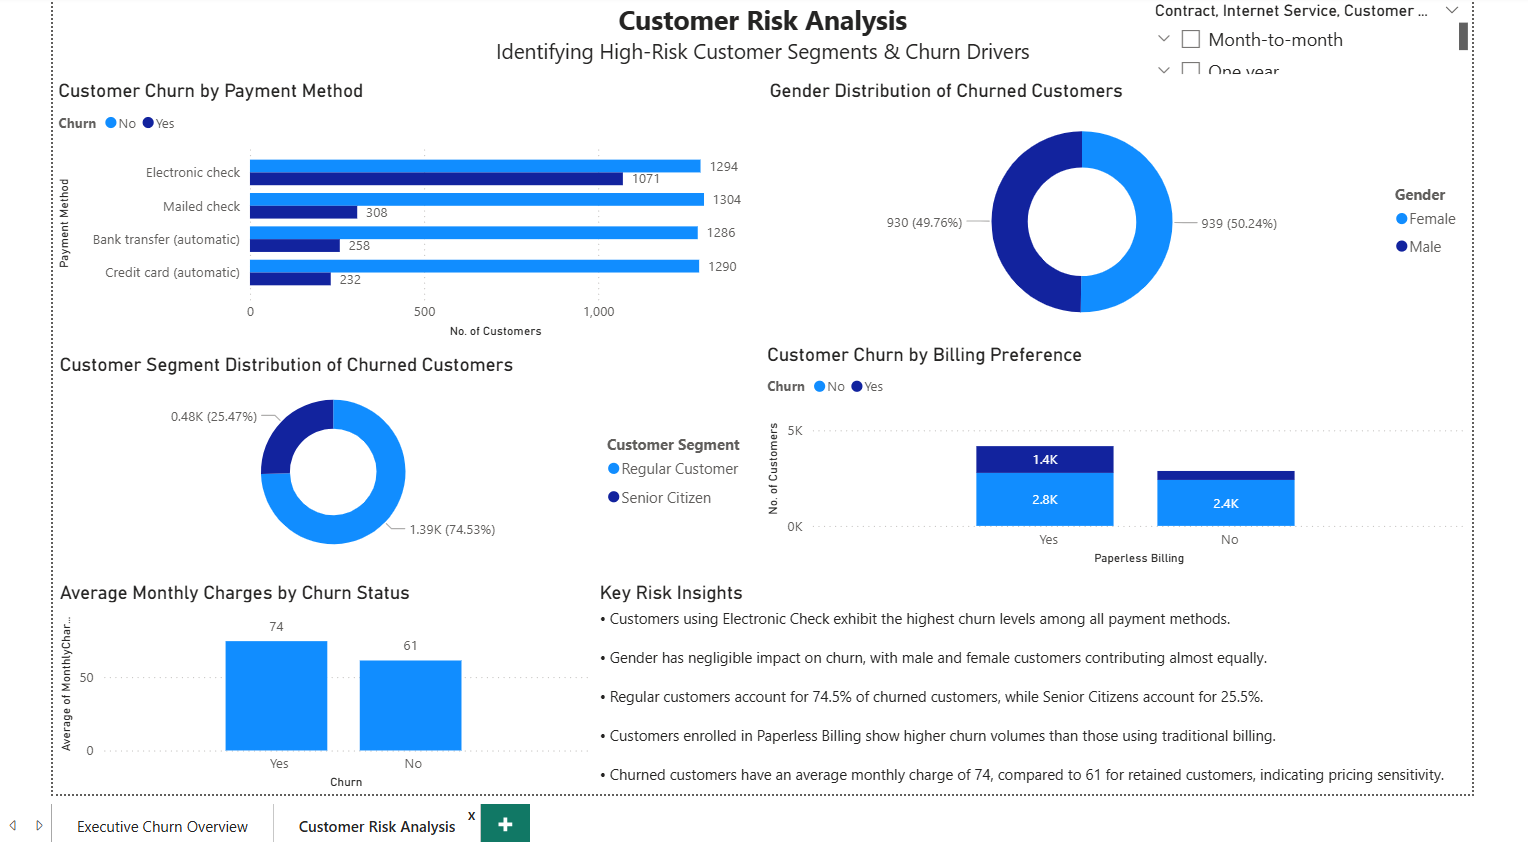

This screenshot's page, from the dashboard's own definition file:
{"tool":"powerbi","page":{"name":"Customer Risk Analysis","canvas":[1280,720],"ordinal":1},"visuals":[{"type":"textbox","box":[0,0,1280,75.9],"z":0},{"type":"clusteredBarChart","title":"Customer Churn by Payment Method","fields":{"Category":["WA_Fn-UseC_-Telco-Customer-Churn.PaymentMethod"],"Y":["CountNonNull(WA_Fn-UseC_-Telco-Customer-Churn.customerID)"],"Series":["WA_Fn-UseC_-Telco-Customer-Churn.Churn"]},"box":[0,75.5,640.8,237.4],"z":5},{"type":"donutChart","title":"Gender Distribution of Churned Customers","fields":{"Category":["WA_Fn-UseC_-Telco-Customer-Churn.gender"],"Y":["CountNonNull(WA_Fn-UseC_-Telco-Customer-Churn.customerID)"]},"box":[640.8,75.5,639.5,237.4],"z":6},{"type":"donutChart","title":"Customer Segment Distribution of Churned Customers","fields":{"Category":["WA_Fn-UseC_-Telco-Customer-Churn.Customer Segment"],"Y":["CountNonNull(WA_Fn-UseC_-Telco-Customer-Churn.customerID)"]},"box":[1.4,322.5,639.5,194.9],"z":7},{"type":"columnChart","title":"Customer Churn by Billing Preference","fields":{"Category":["WA_Fn-UseC_-Telco-Customer-Churn.PaperlessBilling"],"Y":["CountNonNull(WA_Fn-UseC_-Telco-Customer-Churn.customerID)"],"Series":["WA_Fn-UseC_-Telco-Customer-Churn.Churn"]},"box":[639.5,312.9,639.5,204.5],"z":8},{"type":"clusteredColumnChart","title":"Average Monthly Charges by Churn Status","fields":{"Y":["Avg(WA_Fn-UseC_-Telco-Customer-Churn.MonthlyCharges)"],"Category":["WA_Fn-UseC_-Telco-Customer-Churn.Churn"]},"box":[1.2,527.4,486.4,192.8],"z":9},{"type":"textbox","title":"Key Risk Insights","box":[487.6,527.4,791.2,192.8],"z":10},{"type":"slicer","fields":{"Values":["WA_Fn-UseC_-Telco-Customer-Churn.Contract","WA_Fn-UseC_-Telco-Customer-Churn.InternetService","WA_Fn-UseC_-Telco-Customer-Churn.Customer Segment"]},"box":[980.2,0,300,75.6],"z":11}]}

Visuals, with their boxes on the page's 1280x720 design canvas (x1, y1, x2, y2). These are canvas units, not pixel positions in the 1528x842 screenshot, which may show the page scaled, cropped or inside an application window:
textbox: locate(0, 0, 1280, 76)
"Customer Churn by Payment Method" clusteredBarChart: locate(0, 76, 641, 313)
"Gender Distribution of Churned Customers" donutChart: locate(641, 76, 1280, 313)
"Customer Segment Distribution of Churned Customers" donutChart: locate(1, 322, 641, 517)
"Customer Churn by Billing Preference" columnChart: locate(640, 313, 1279, 517)
"Average Monthly Charges by Churn Status" clusteredColumnChart: locate(1, 527, 488, 720)
"Key Risk Insights" textbox: locate(488, 527, 1279, 720)
slicer - WA_Fn-UseC_-Telco-Customer-Churn.Contract x WA_Fn-UseC_-Telco-Customer-Churn.InternetService: locate(980, 0, 1280, 76)
